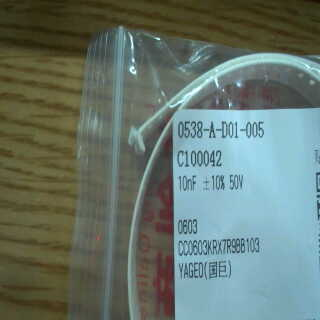10nF: (175, 170, 201, 195)
